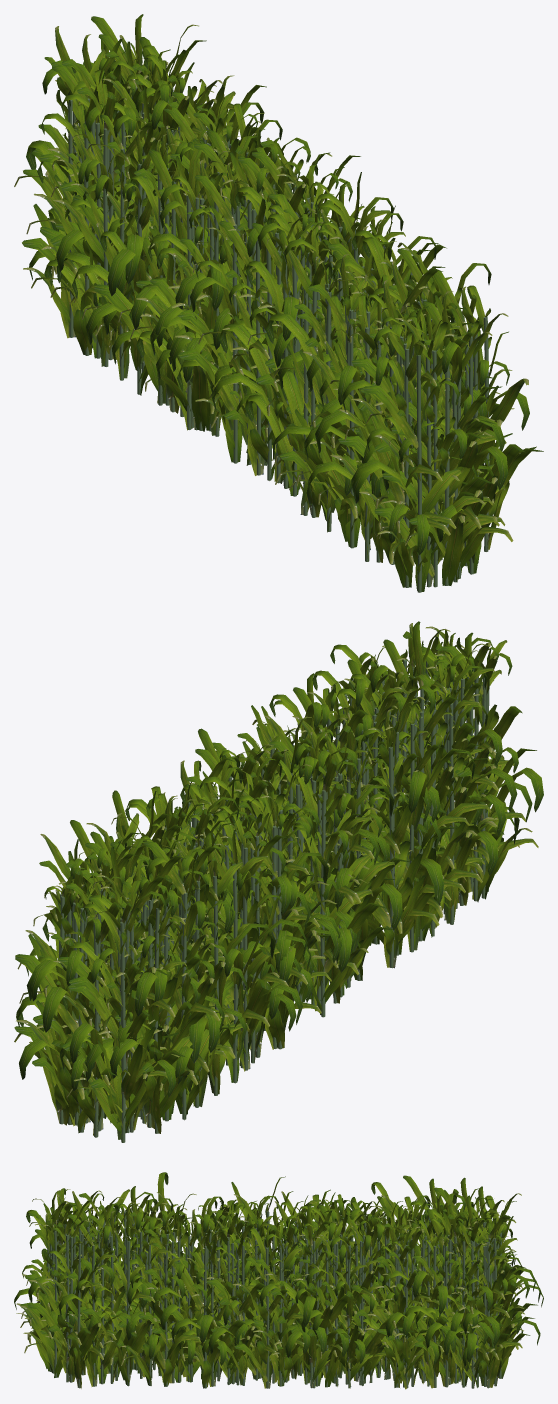
File: milharal4x25_denso4.fbx
3 views of the same model, one above another, from view 1: azimuth 30°, elevation 25°; view 2: azimuth 150°, elevation 25°; view 3: azimuth 270°, elevation 25° (orthographic). The views are drawn at different scales.
Visible parts, largest first — view 1: Plantacao2; view 2: Plantacao2; view 3: Plantacao2.
Part boxes in pixels (left/top/right/bottom): Plantacao2: left=14, top=14, right=543, bottom=592; Plantacao2: left=14, top=621, right=543, bottom=1142; Plantacao2: left=14, top=1172, right=543, bottom=1389.
Bounding box in the file's own units: 878 × 1099 × 2921.
